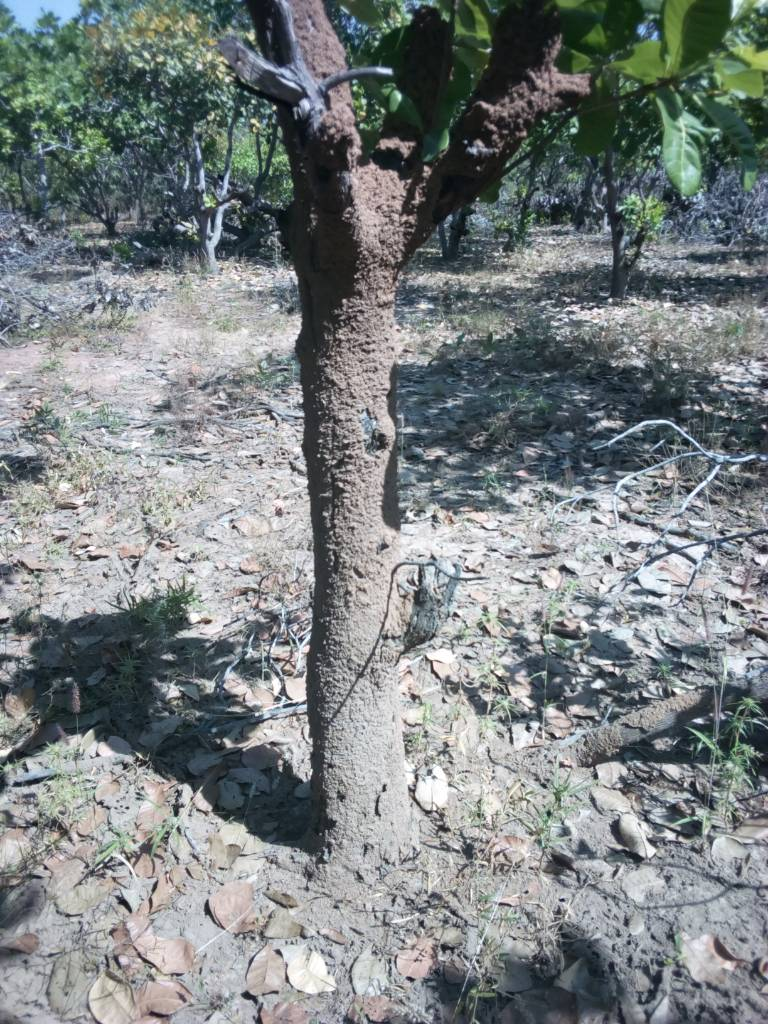Termites: (304, 178, 391, 878), (457, 22, 569, 167)
